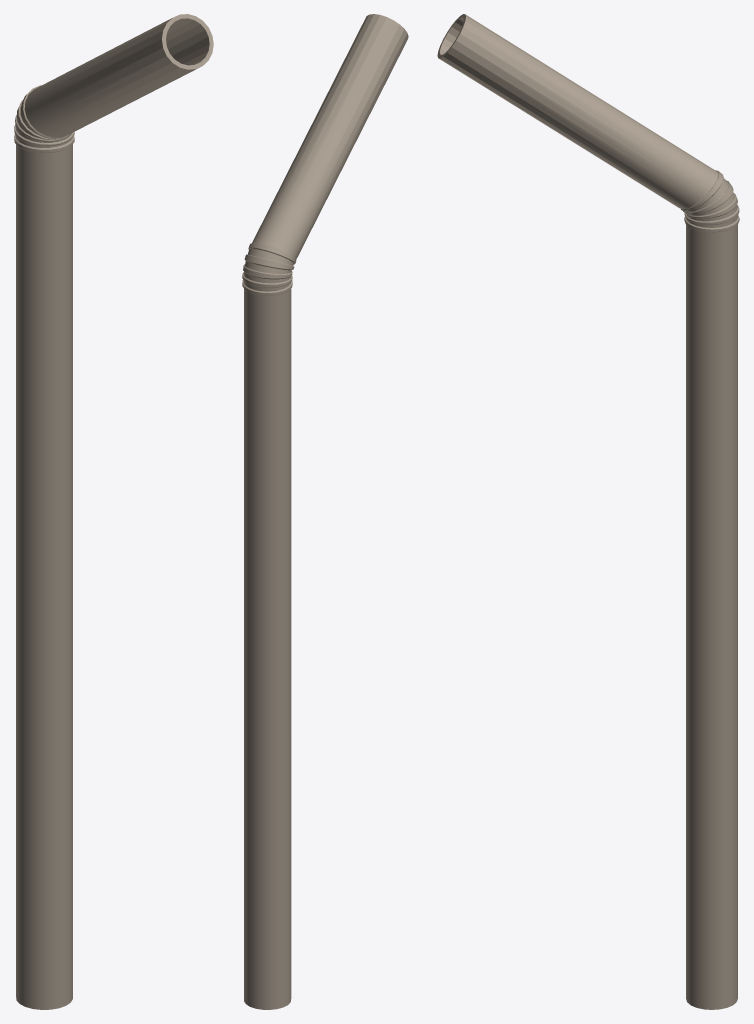
File: Straw.fbx
3 renders of one model, left to right at view 1: azimuth 30°, elevation 25°; view 2: azimuth 150°, elevation 25°; view 3: azimuth 270°, elevation 25°, orthographic. The views are drawn at different scales.
Visible parts, largest first — view 1: pCylinder1; view 2: pCylinder1; view 3: pCylinder1.
Part boxes in pixels (x1,y1,x2,y2): pCylinder1: (14,14,213,1009); pCylinder1: (242,14,408,1009); pCylinder1: (437,14,739,1009).
Bounding box in the file's own units: 2.13 × 41.83 × 11.66.
